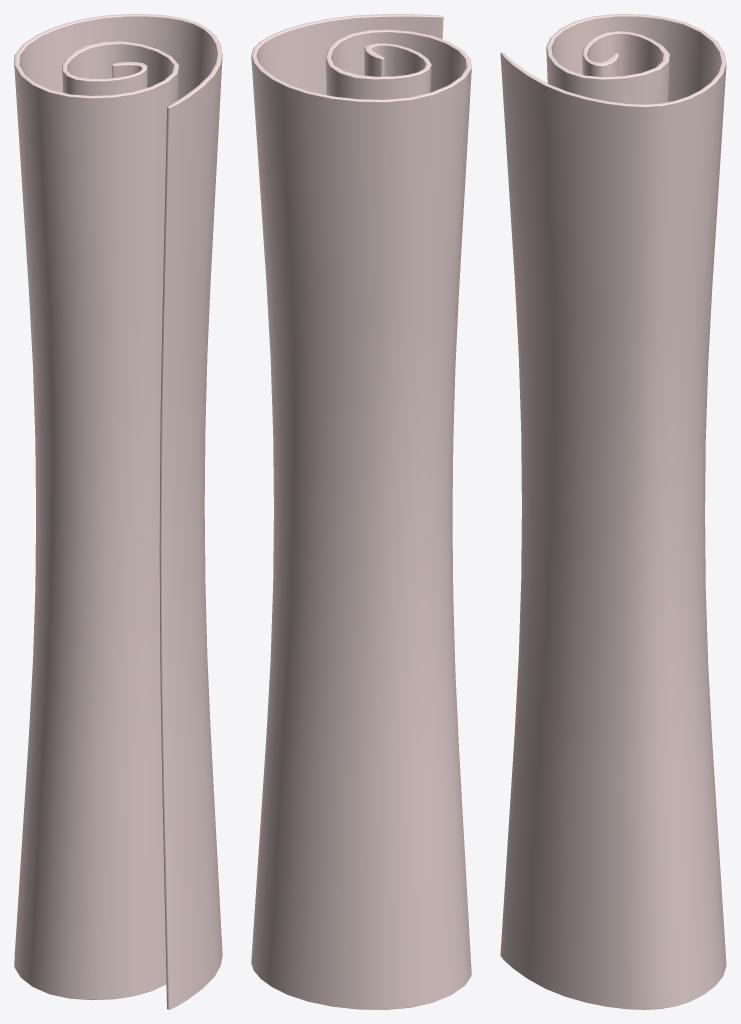
File: Public_2_Scroll_2.glb
3 views of the same model, side by side, from view 1: azimuth 30°, elevation 25°; view 2: azimuth 150°, elevation 25°; view 3: azimuth 270°, elevation 25° (orthographic).
Visible parts, largest first — view 1: Public_2_Scroll_2; view 2: Public_2_Scroll_2; view 3: Public_2_Scroll_2.
Boxes of the visible parts, <box> form: Public_2_Scroll_2: <box>14,14,222,1009</box>; Public_2_Scroll_2: <box>251,14,471,1009</box>; Public_2_Scroll_2: <box>500,14,726,1009</box>.
Size of the model in its own units: 0.4444 by 2.02 by 0.4576.
Materials: 1 (1 with a texture image).
